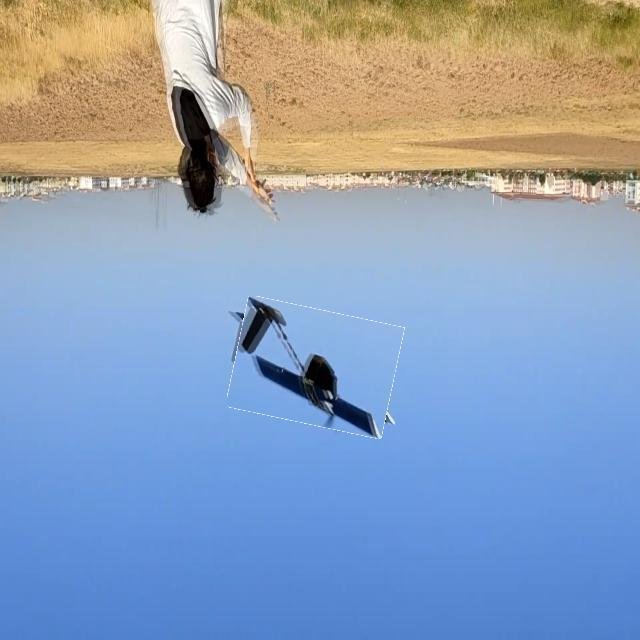UAV: (218, 318, 394, 446)
